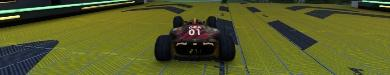Car: (153, 15, 237, 61)
Solid White and black: (224, 2, 389, 74)
grass: (0, 2, 389, 73)
obstacles-Borders: (0, 0, 145, 36)
